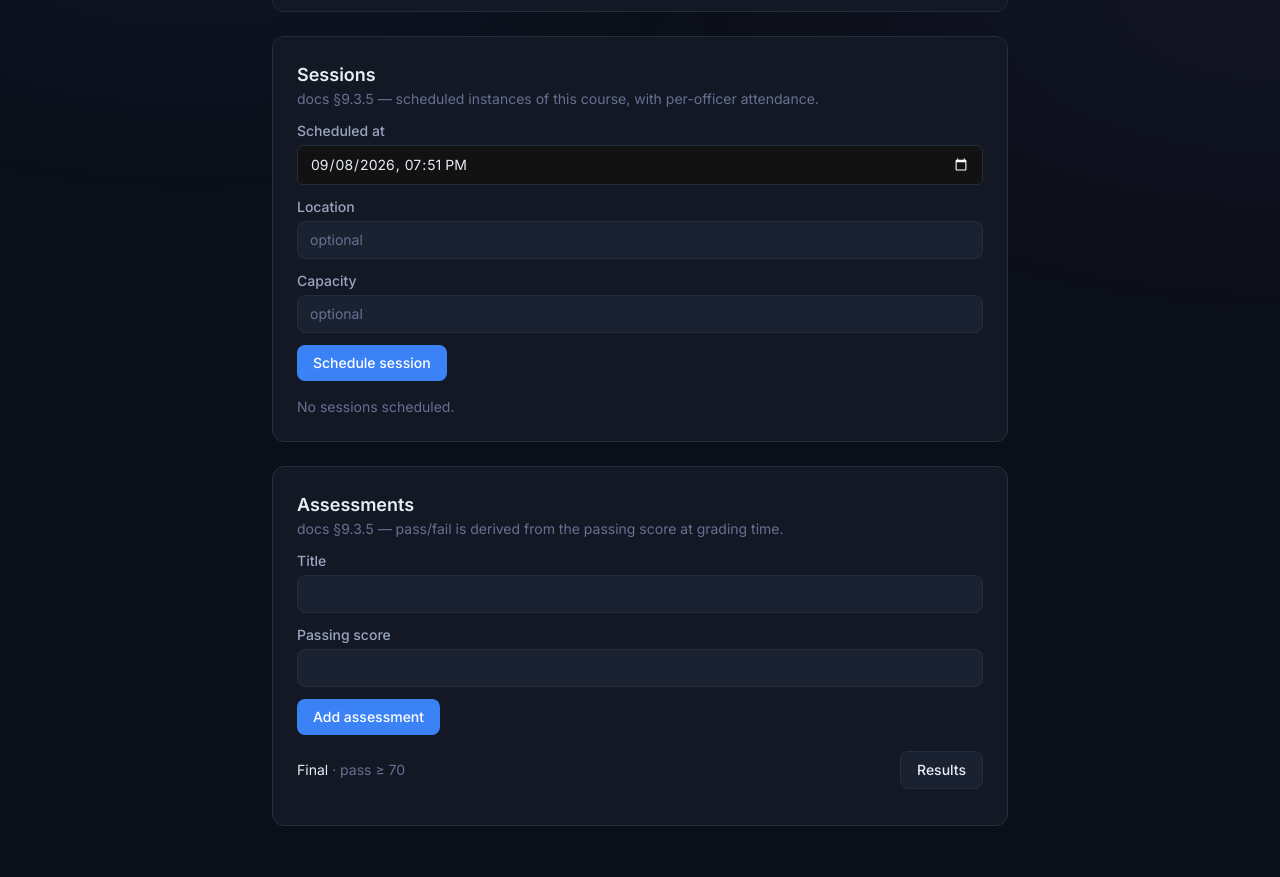
CourseDetailPage › creates an assessment and records a graded result
(page scrolled)
Expected: the text "· pass ≥ 70" is shown, [332,761,405,778]
Click the button "Results" at (942, 770), box [900,751,983,789]
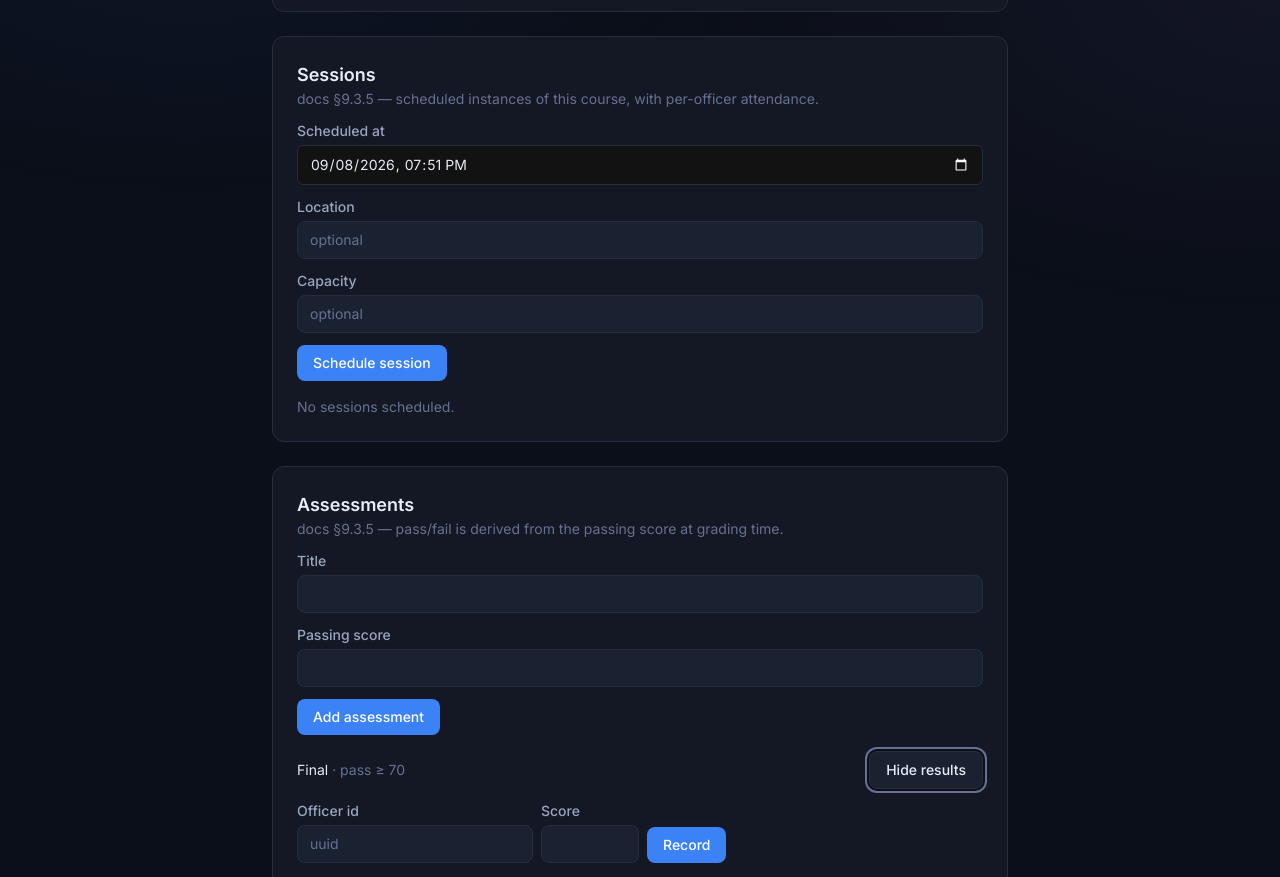
Type "off-3" into the field labelled "Officer id" at (415, 844), box [297,825,533,863]
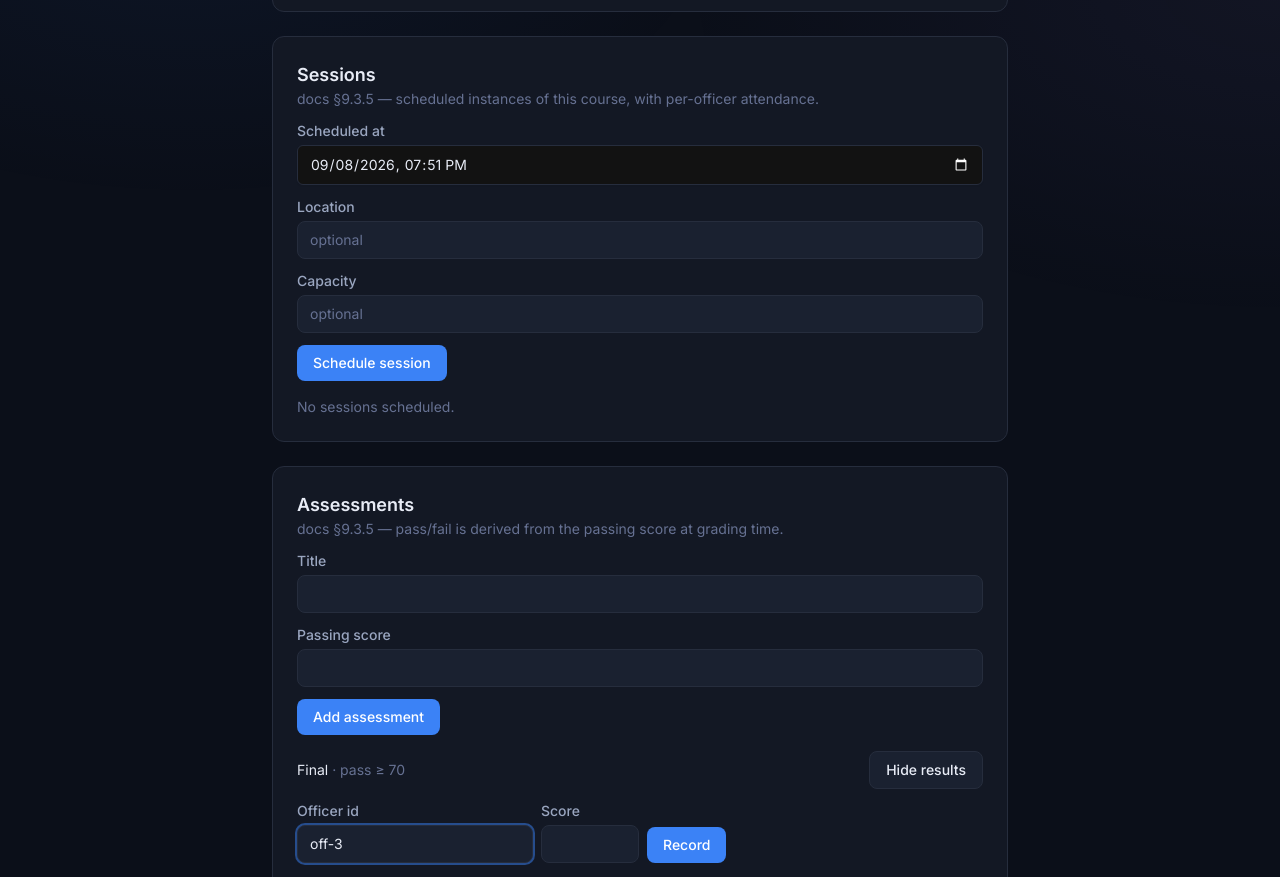
Type "55" into the number field labelled "Score" at (590, 844), box [541,825,639,863]
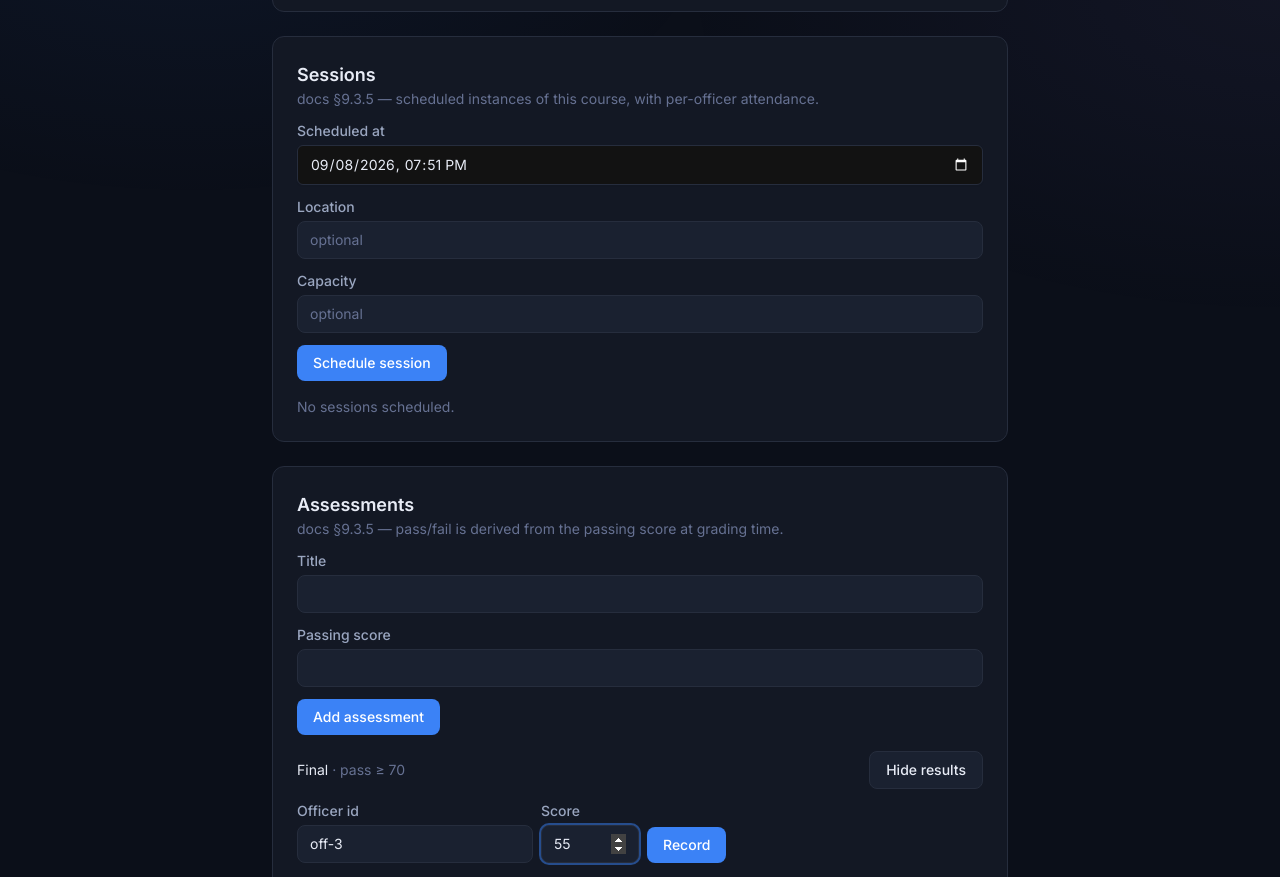
Click the button "Record" at (687, 845), box [647,827,726,863]
(page scrolled)
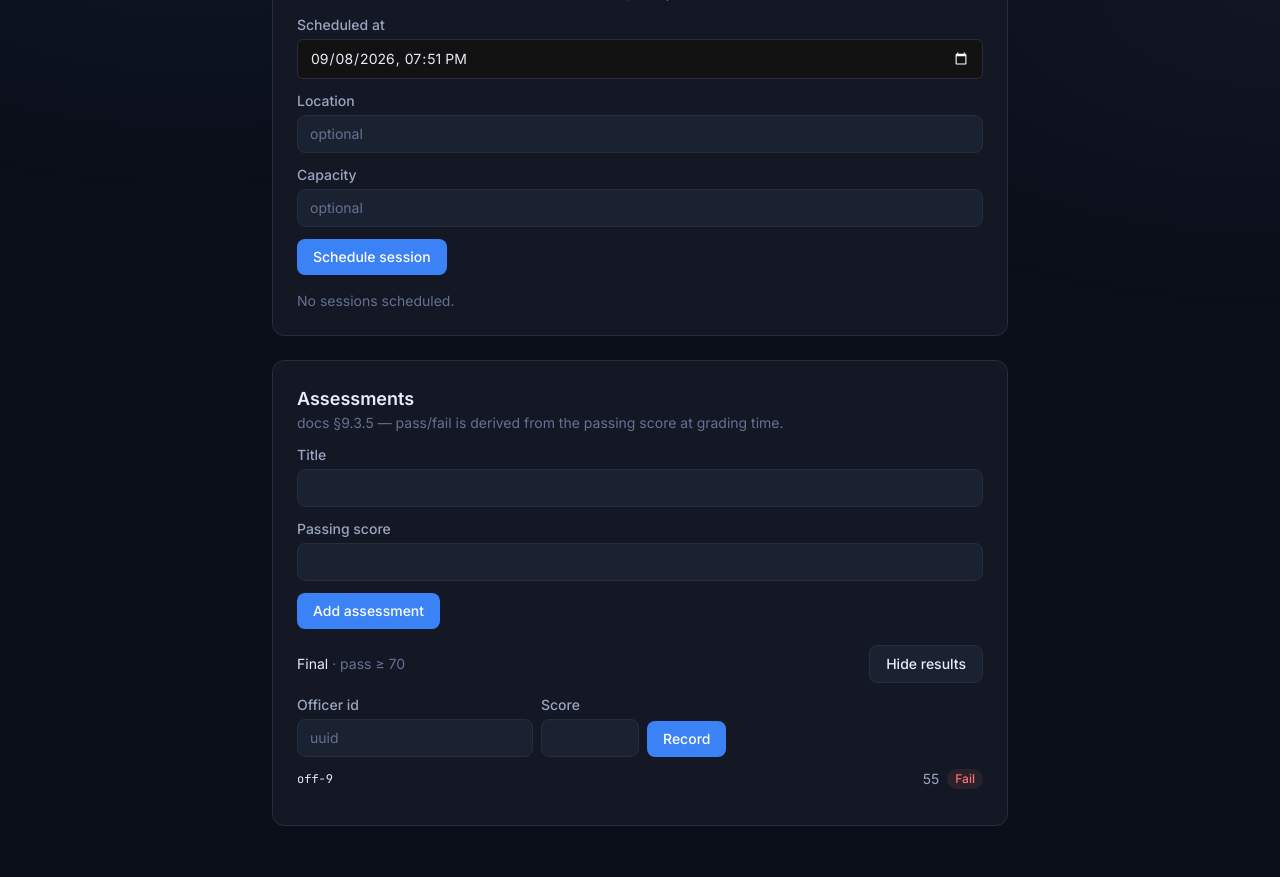
Expected: the text "Fail" is shown, [947,769,983,789]
